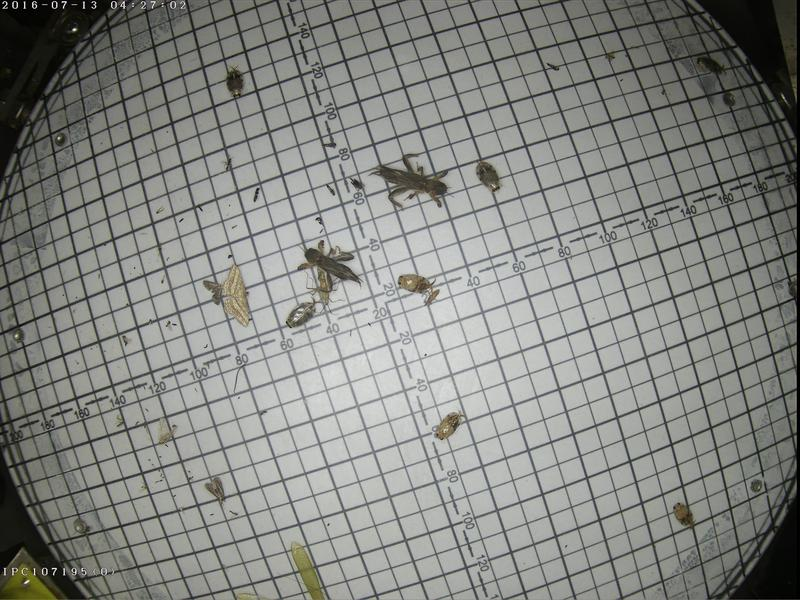Gryllotalpa orientalis: (365, 150, 452, 211), (297, 237, 366, 296)
